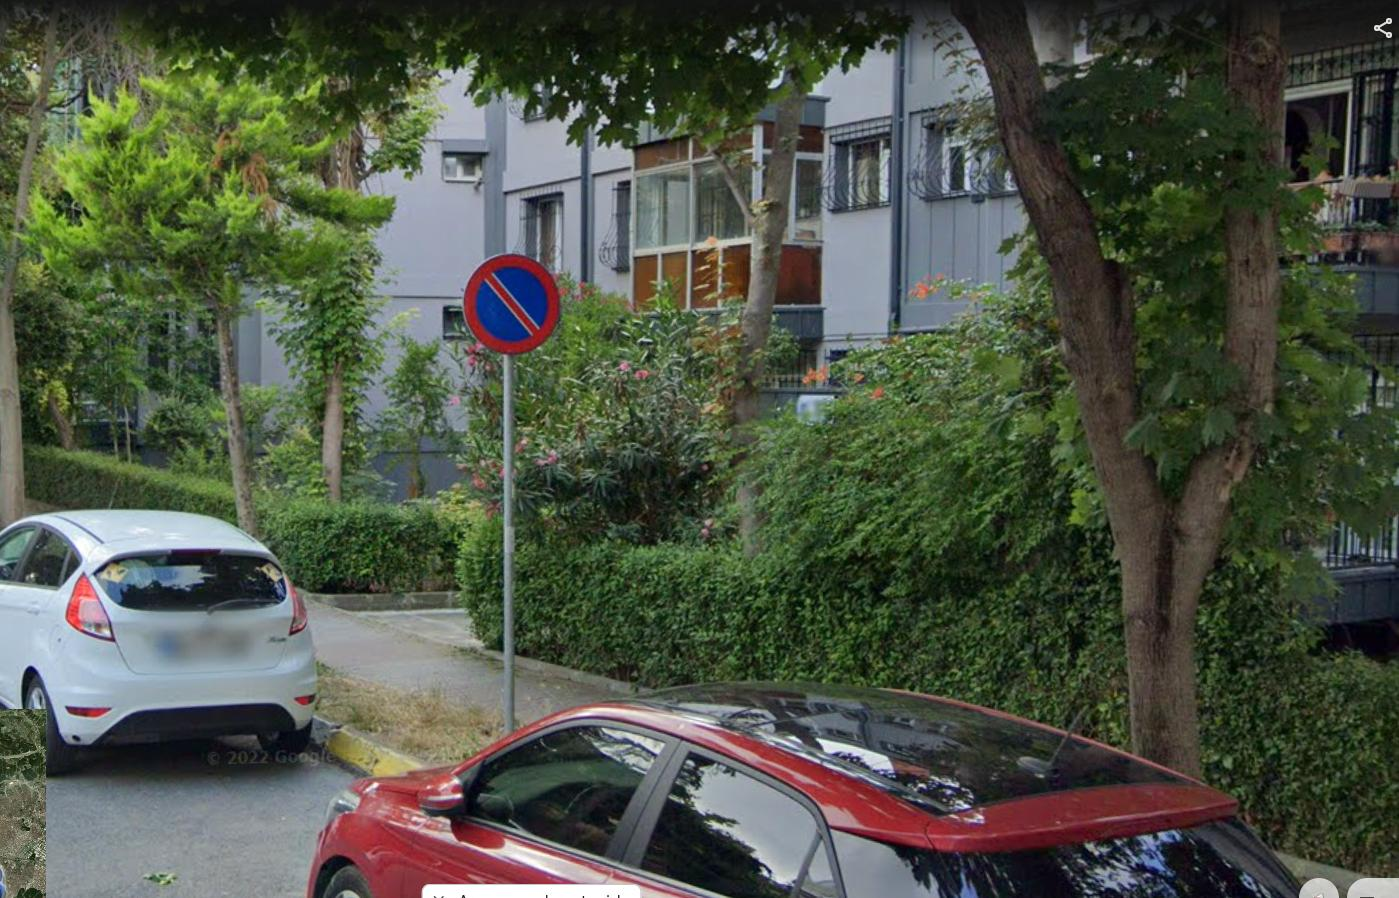nopark: (460, 255, 563, 354)
